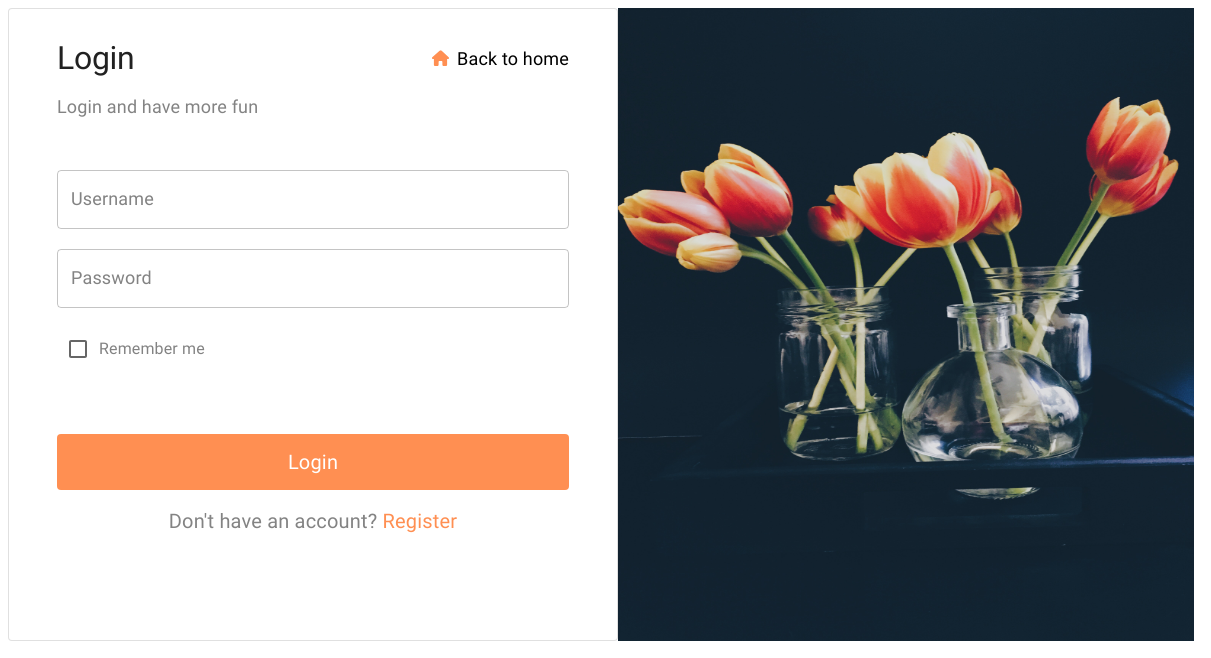
Test case: <LoginComponent> › should display error message if username is less than 3 characters
In the field with placeholder "Username": (313, 200) [57, 170, 569, 229], type "jo"
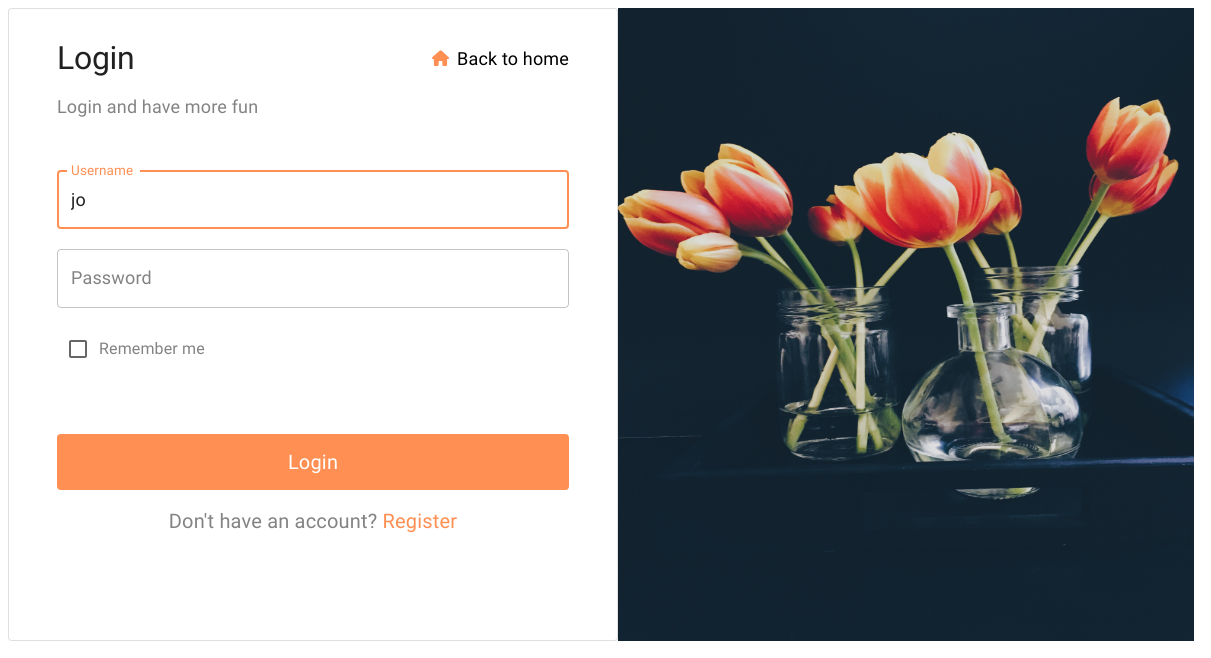
Click the button "Login": (313, 462) [57, 434, 569, 490]
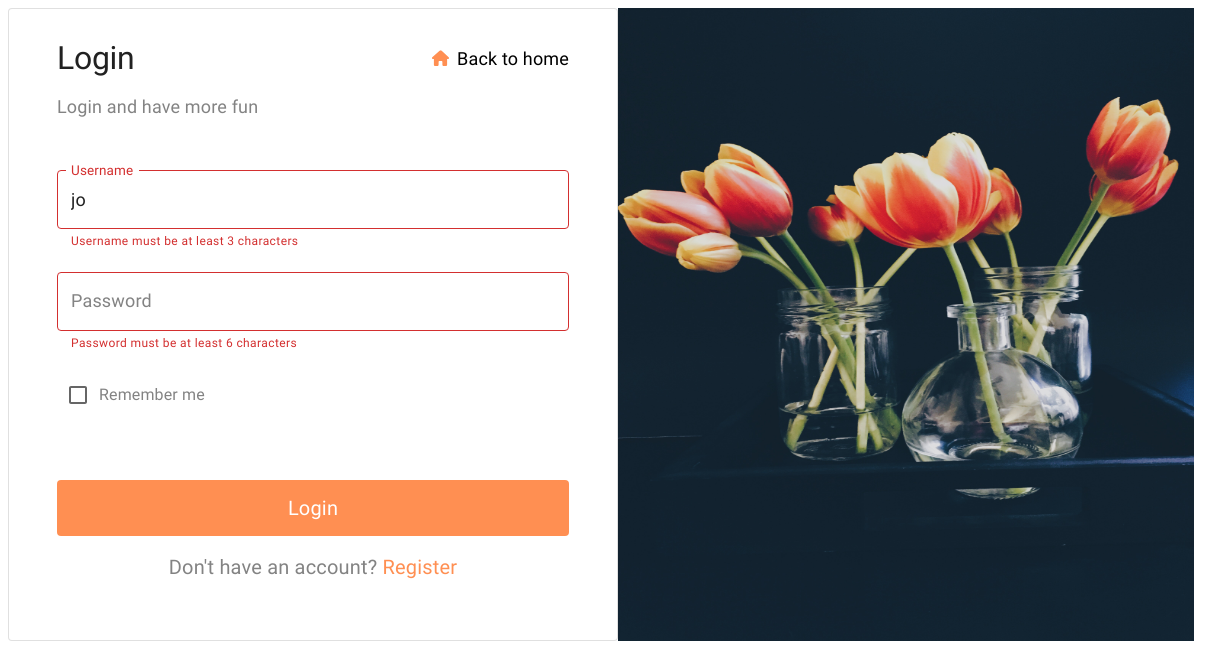
Check: the text "Username must be at least 3 characters" is shown, box [71, 234, 298, 248]
